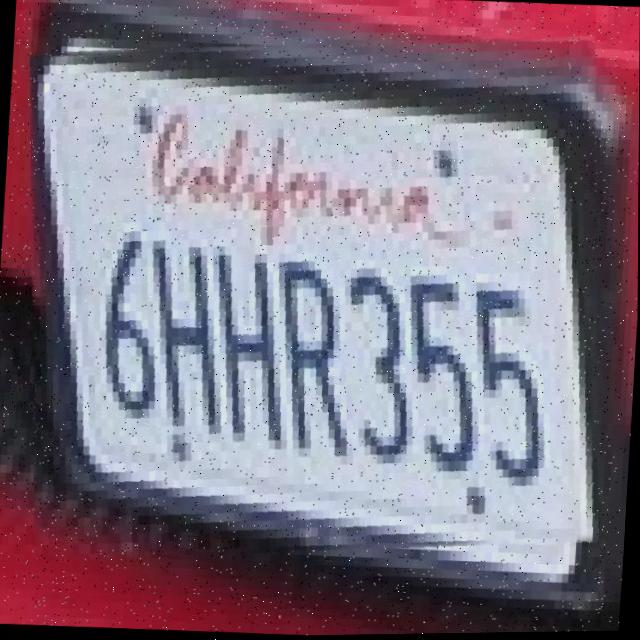LicensePlate: (10, 17, 622, 580)
